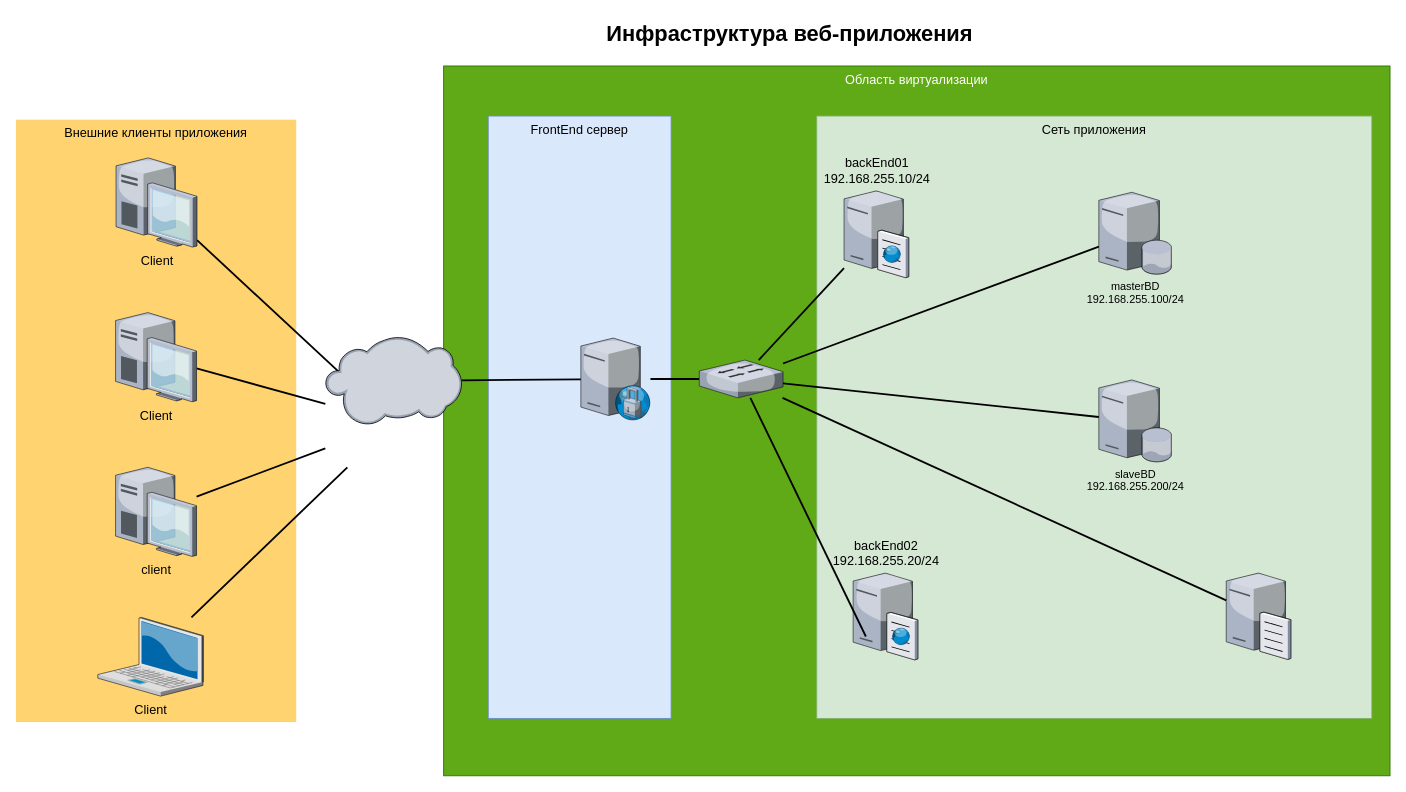
This 1406x792 diagram has some shape labels left out. Here are the shapes that lost their labels. From the top down, the centre of each, then its label:
At [393,380]: "Интернет".
At [615,379]: "frontEnd 192.168.255.1/24".
At [741,378]: "vswitch".
At [1258,615]: "backup 192.168.255.250/24".
